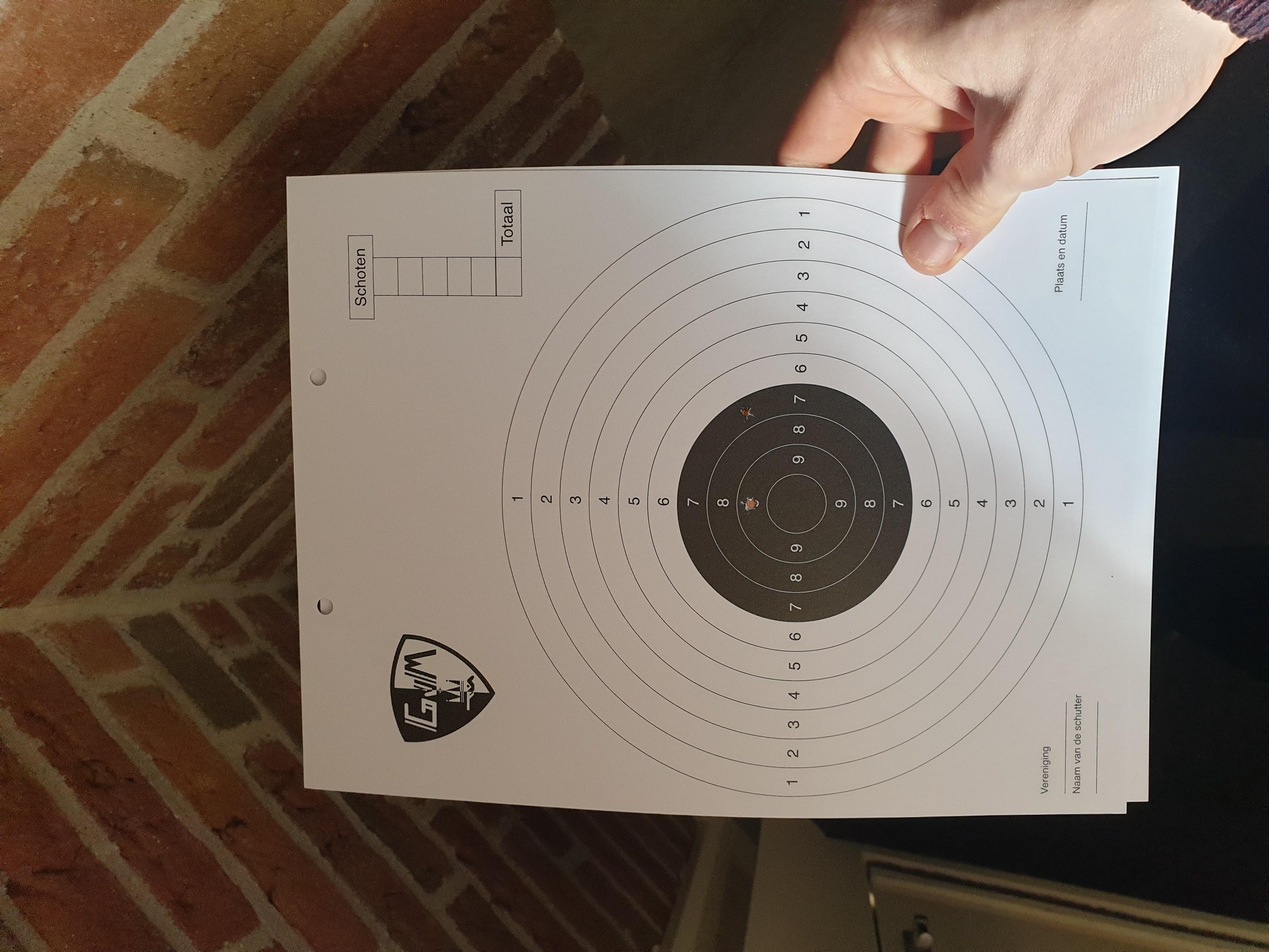hole: (737, 400, 754, 422), (740, 495, 758, 514)
